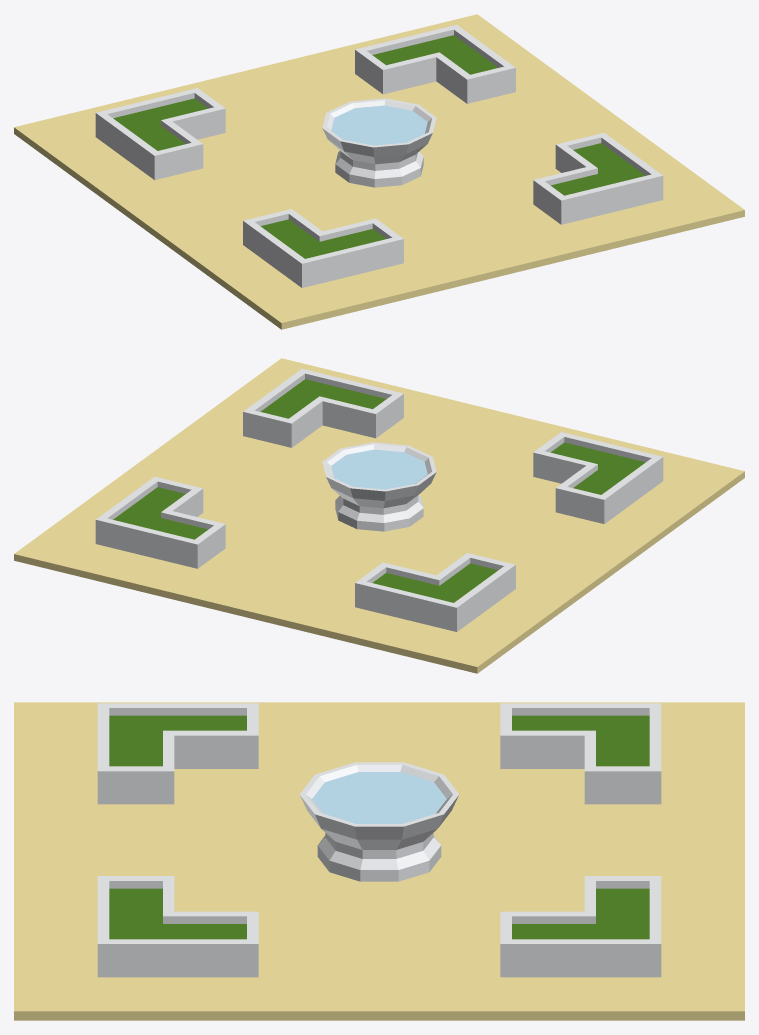
Rendered from Fountain_001.fbx.
3 views of the same model, one above another, from view 1: azimuth 30°, elevation 25°; view 2: azimuth 150°, elevation 25°; view 3: azimuth 270°, elevation 25° (orthographic). The views are drawn at different scales.
Parts seen in each view (by area): view 1: Fountain.001; view 2: Fountain.001; view 3: Fountain.001.
Part boxes in pixels (x1=…): Fountain.001: x1=14, y1=14, x2=744, y2=329; Fountain.001: x1=14, y1=358, x2=744, y2=673; Fountain.001: x1=14, y1=702, x2=744, y2=1020.
Bounding box in the file's own units: 1103 × 119 × 1103.
